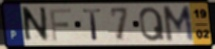7: (109, 6, 131, 43)
F: (48, 7, 73, 42)
M: (161, 5, 197, 44)
N: (22, 5, 50, 45)
Q: (138, 6, 167, 43)
T: (81, 8, 104, 42)
